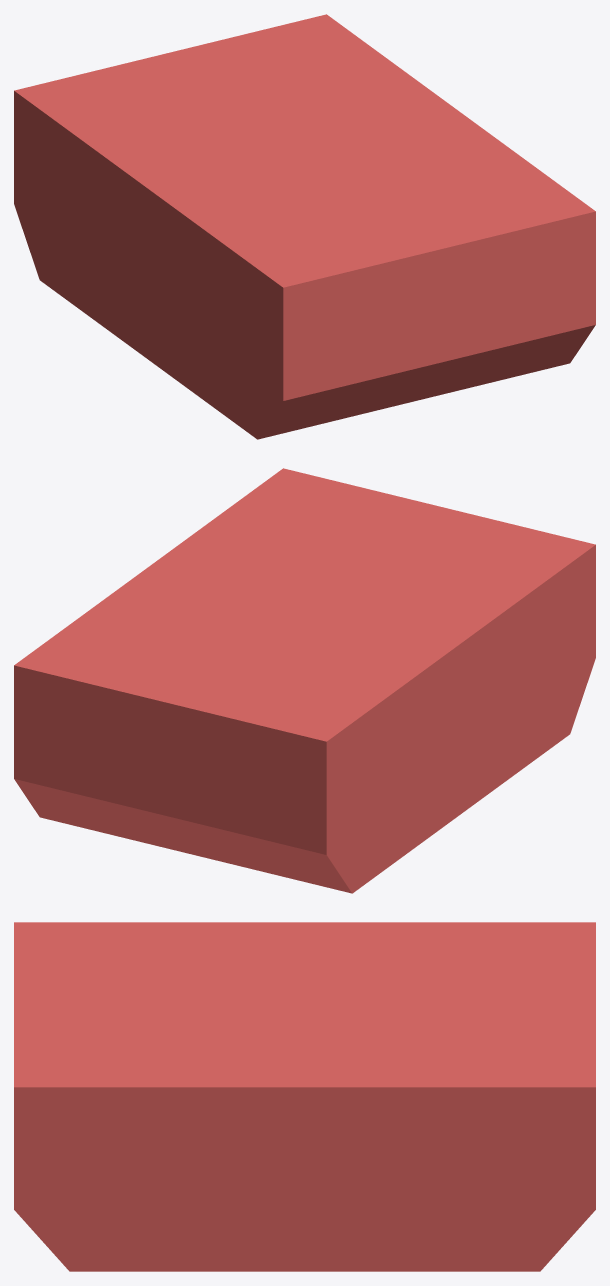
File: SM_PROP_BOX_WIRES.fbx
3 views of the same model, one above another, from view 1: azimuth 30°, elevation 25°; view 2: azimuth 150°, elevation 25°; view 3: azimuth 270°, elevation 25° (orthographic). The views are drawn at different scales.
Parts seen in each view (by area): view 1: SM_PROP_BOX_WIRES; view 2: SM_PROP_BOX_WIRES; view 3: SM_PROP_BOX_WIRES.
Boxes of the visible parts, left/top/right/bottom form: SM_PROP_BOX_WIRES: left=14, top=14, right=595, bottom=439; SM_PROP_BOX_WIRES: left=14, top=468, right=595, bottom=893; SM_PROP_BOX_WIRES: left=14, top=922, right=595, bottom=1271.
Bounding box in the file's own units: 0.5556 × 0.29 × 0.8288.
